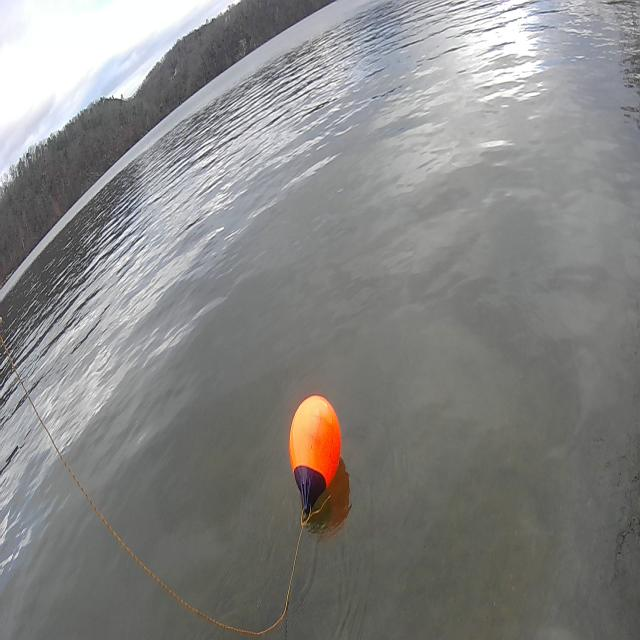Buoy: (287, 390, 344, 497)
